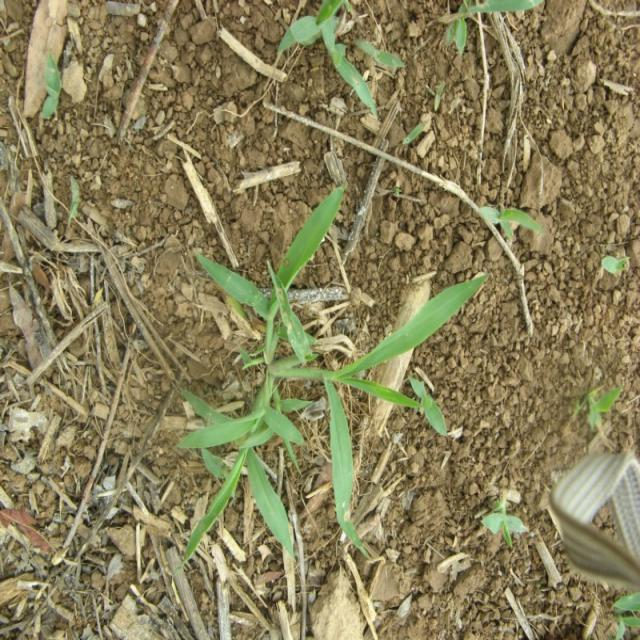bg: (178, 182, 484, 568)
